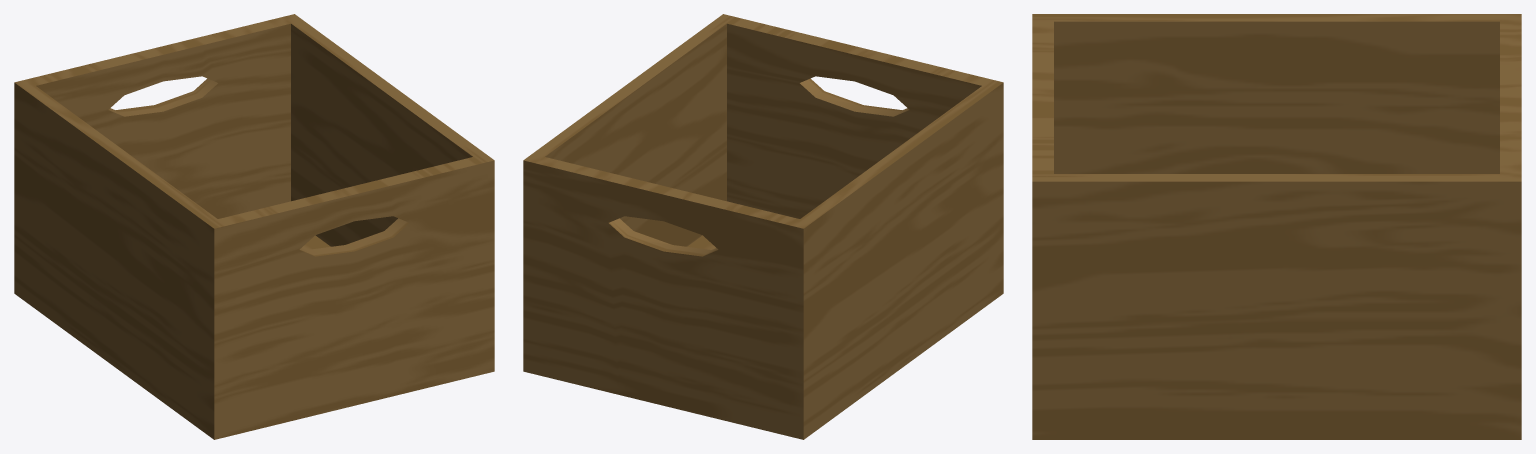
Rendered from EmptyBox.fbx.
The picture shows the model from 3 angles, left to right: view 1: azimuth 30°, elevation 25°; view 2: azimuth 150°, elevation 25°; view 3: azimuth 270°, elevation 25°; orthographic projection. The views are drawn at different scales.
Visible parts, largest first — view 1: EmptyBasket1; view 2: EmptyBasket1; view 3: EmptyBasket1.
Part boxes in pixels (left/top/right/bottom): EmptyBasket1: left=14, top=14, right=494, bottom=439; EmptyBasket1: left=523, top=14, right=1003, bottom=439; EmptyBasket1: left=1032, top=14, right=1521, bottom=439.
Size of the model in its own units: 1 by 0.7196 by 1.24.
Materials: 1 (1 with a texture image).
